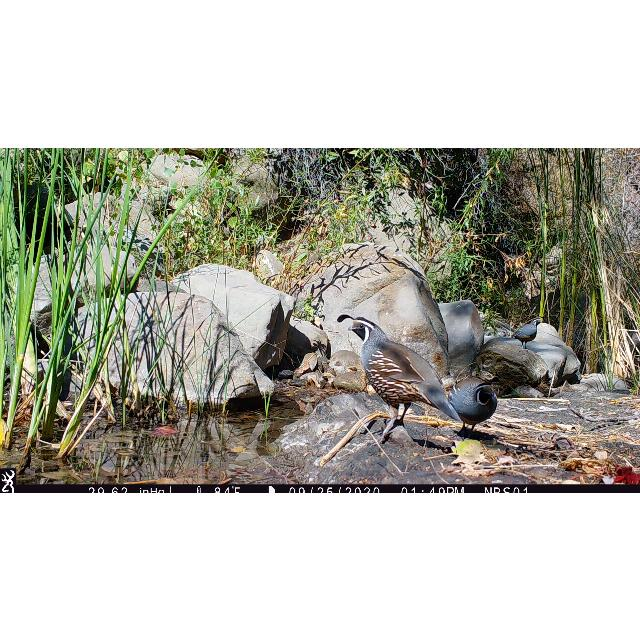animals: (337, 312, 465, 446), (448, 375, 498, 435)
